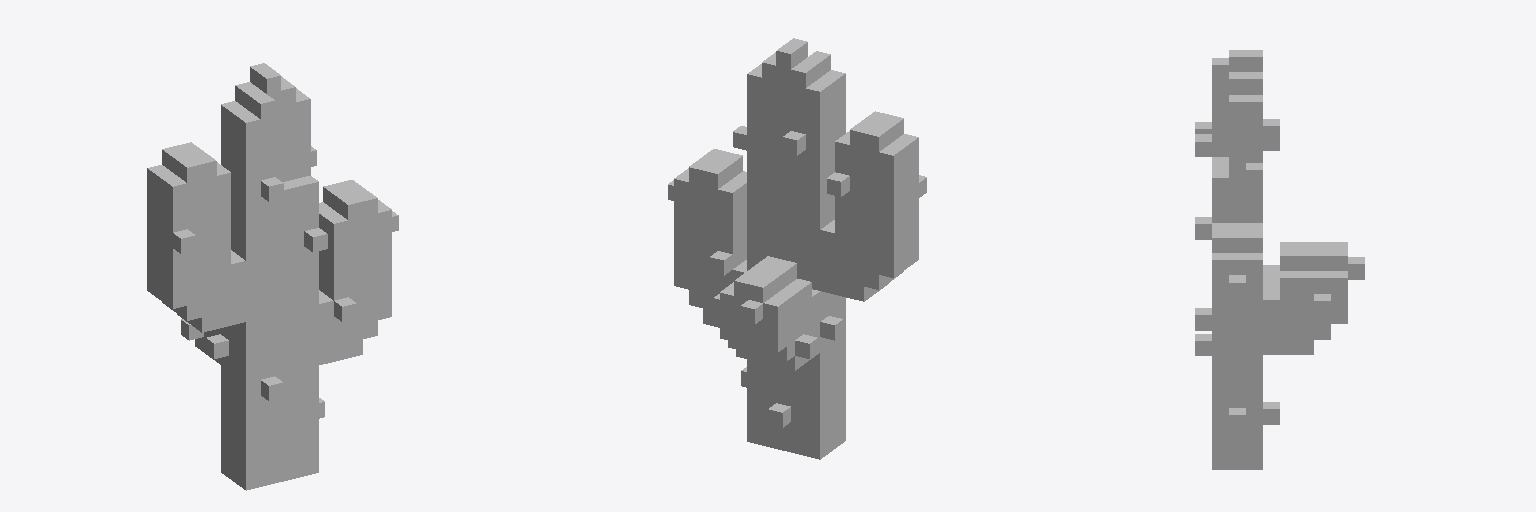
Rendered from cactus.obj.
3 views of the same model, side by side, from view 1: azimuth 30°, elevation 25°; view 2: azimuth 150°, elevation 25°; view 3: azimuth 270°, elevation 25° (orthographic).
Visible parts, largest first — view 1: object 1; view 2: object 1; view 3: object 1.
Boxes of the visible parts, x1=… form: object 1: x1=147, y1=63, x2=398, y2=490; object 1: x1=668, y1=38, x2=926, y2=459; object 1: x1=1195, y1=50, x2=1364, y2=469.
Bounding box in the file's own units: 1.6 × 2.6 × 1.